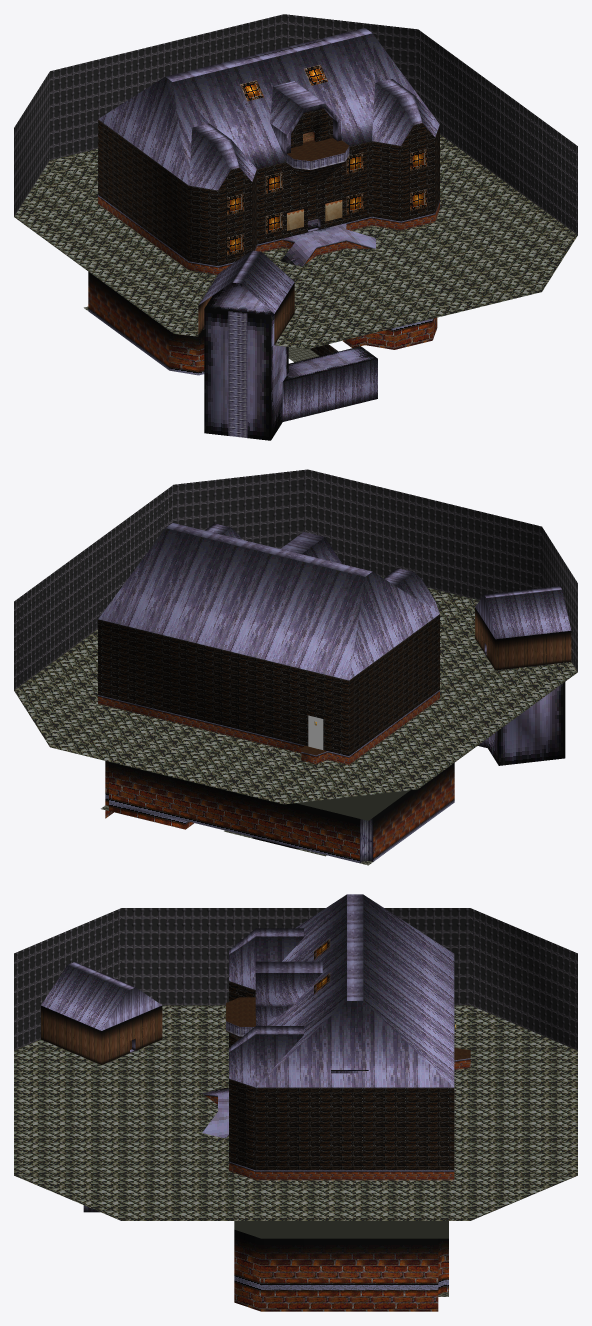
The model's file is BigBoosHaunt.dae.
3 renders of one model, top to bottom at view 1: azimuth 30°, elevation 25°; view 2: azimuth 150°, elevation 25°; view 3: azimuth 270°, elevation 25°, orthographic. The views are drawn at different scales.
Visible parts, largest first — view 1: _002_geometry, _003_geometry, _021_geometry, _019_geometry, _000_geometry, _013_geometry, _008_geometry, _001_geometry, _005_geometry, _006_geometry, _017_geometry; view 2: _021_geometry, _003_geometry, _002_geometry, _019_geometry, _013_geometry, _000_geometry, _005_geometry, _020_geometry, _004_geometry; view 3: _002_geometry, _003_geometry, _021_geometry, _019_geometry, _013_geometry, _005_geometry, _020_geometry, _006_geometry, _000_geometry.
Part boxes in pixels (x1=…): _002_geometry: x1=14, y1=134, x2=577, y2=362; _003_geometry: x1=98, y1=28, x2=439, y2=421; _021_geometry: x1=14, y1=14, x2=577, y2=234; _019_geometry: x1=98, y1=40, x2=439, y2=355; _000_geometry: x1=204, y1=219, x2=377, y2=440; _013_geometry: x1=88, y1=131, x2=439, y2=375; _008_geometry: x1=227, y1=64, x2=426, y2=255; _001_geometry: x1=228, y1=146, x2=349, y2=437; _005_geometry: x1=198, y1=131, x2=318, y2=344; _006_geometry: x1=287, y1=138, x2=348, y2=161; _017_geometry: x1=287, y1=200, x2=342, y2=230; _021_geometry: x1=14, y1=469, x2=577, y2=690; _003_geometry: x1=98, y1=523, x2=571, y2=747; _002_geometry: x1=14, y1=576, x2=577, y2=865; _019_geometry: x1=98, y1=614, x2=439, y2=755; _013_geometry: x1=98, y1=690, x2=454, y2=863; _000_geometry: x1=485, y1=653, x2=565, y2=765; _005_geometry: x1=252, y1=607, x2=571, y2=848; _020_geometry: x1=296, y1=790, x2=410, y2=820; _004_geometry: x1=360, y1=818, x2=373, y2=862; _002_geometry: x1=14, y1=1005, x2=577, y2=1296; _003_geometry: x1=41, y1=894, x2=454, y2=1212; _021_geometry: x1=14, y1=908, x2=577, y2=1050; _019_geometry: x1=226, y1=981, x2=454, y2=1170; _013_geometry: x1=203, y1=1058, x2=470, y2=1311; _005_geometry: x1=41, y1=1005, x2=162, y2=1064; _020_geometry: x1=234, y1=1221, x2=448, y2=1238; _006_geometry: x1=130, y1=997, x2=470, y2=1060; _000_geometry: x1=130, y1=1049, x2=368, y2=1138.
Bounding box in the file's own units: 9727 × 6257 × 10751.
